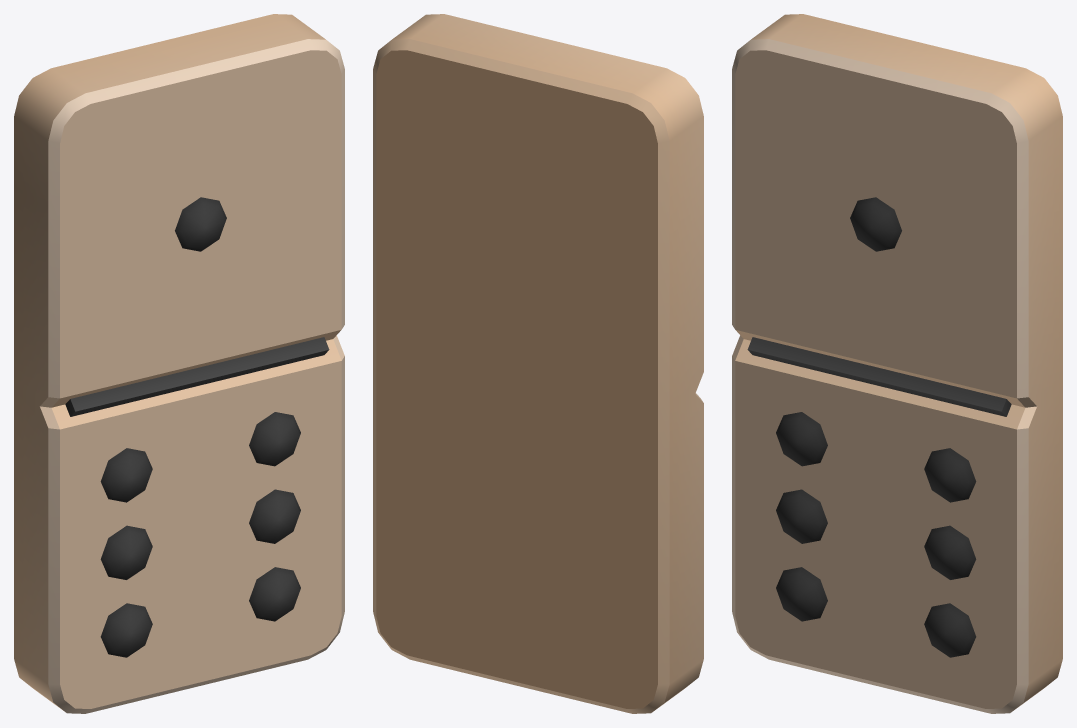
Rendered from KFB_Domino_1-6.r1.glb.
The picture shows the model from 3 angles, left to right: view 1: azimuth 30°, elevation 25°; view 2: azimuth 150°, elevation 25°; view 3: azimuth 330°, elevation 25°; orthographic projection.
Visible parts, largest first — view 1: KFB_Domino_1-6; view 2: KFB_Domino_1-6; view 3: KFB_Domino_1-6.
Boxes of the visible parts, x1,y1,x2,y2 form: KFB_Domino_1-6: (14, 14, 344, 713); KFB_Domino_1-6: (373, 14, 703, 713); KFB_Domino_1-6: (732, 14, 1062, 713).
Bounding box in the file's own units: 2.44 × 4.87 × 0.6739.
Materials: 1 (1 with a texture image).
